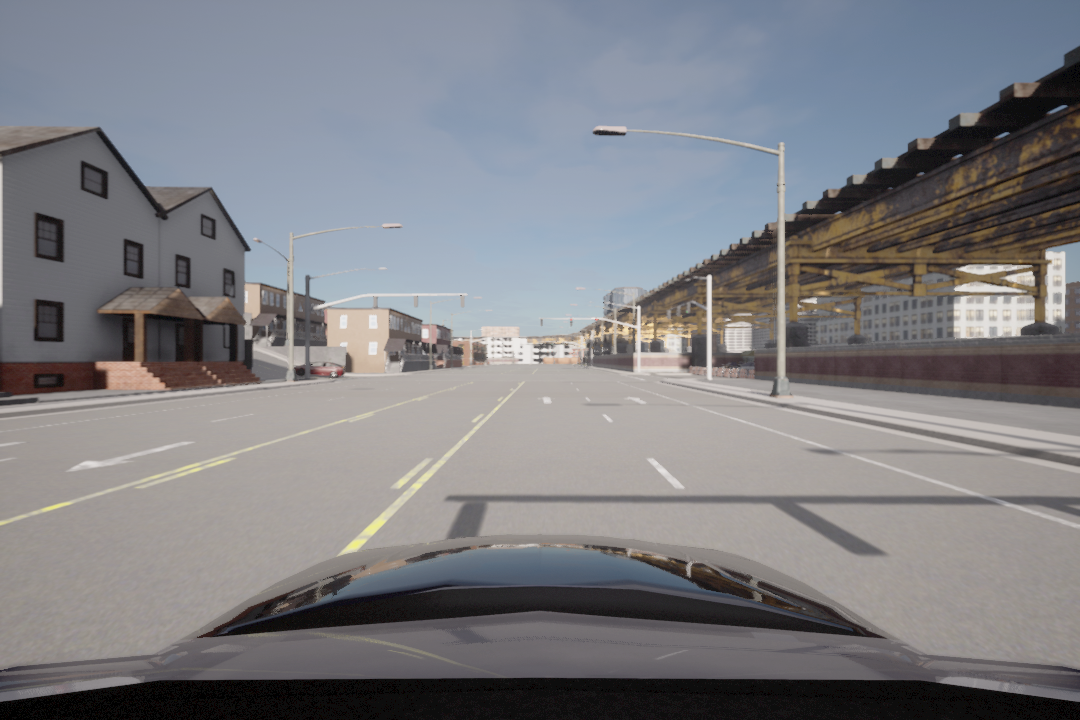RoadSign_forward: (67, 437, 194, 478)
